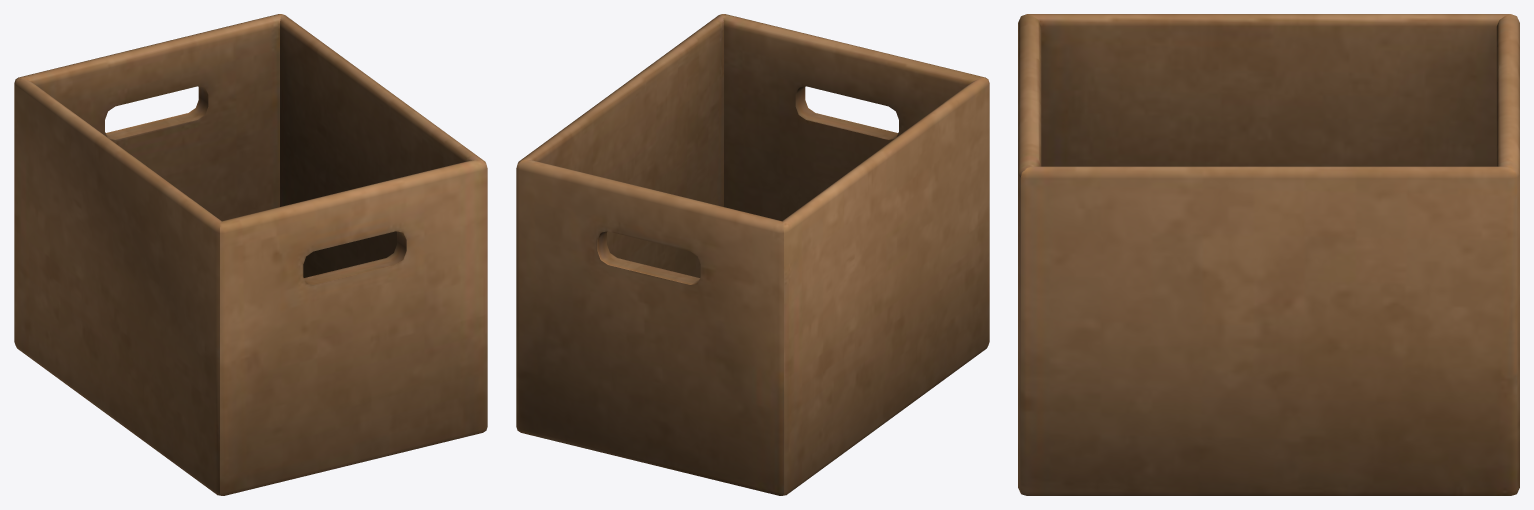
3 renders of one model, left to right at view 1: azimuth 30°, elevation 25°; view 2: azimuth 150°, elevation 25°; view 3: azimuth 270°, elevation 25°, orthographic. The views are drawn at different scales.
Parts seen in each view (by area): view 1: Plane.039; view 2: Plane.039; view 3: Plane.039.
Boxes of the visible parts, box(x1,y1,x2,y2) form: Plane.039: box(14, 14, 487, 495); Plane.039: box(516, 14, 989, 495); Plane.039: box(1018, 14, 1519, 495).
Size of the model in its own units: 0.5141 by 0.4926 by 0.6819.
Materials: 3 (3 with a texture image).
